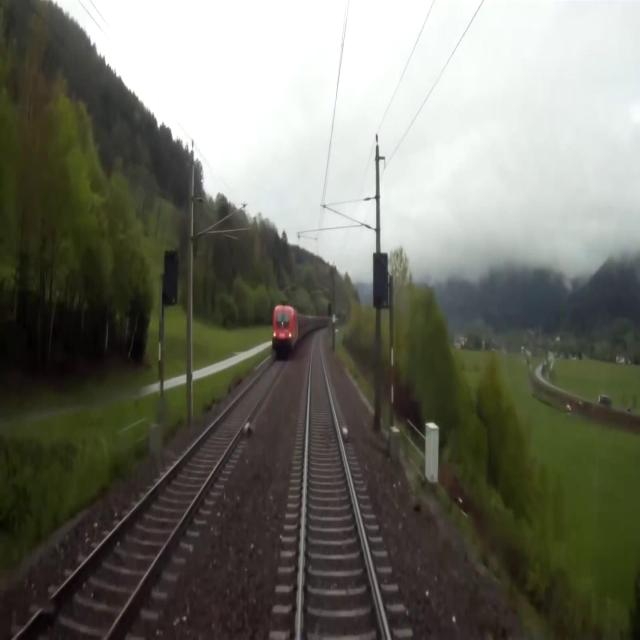rail-track: (19, 359, 282, 639), (301, 335, 386, 639)
